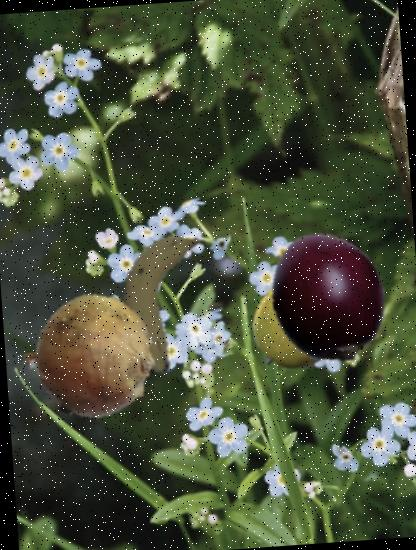Banana: (82, 224, 236, 378)
Maracuja: (242, 256, 366, 381)
Onion: (25, 287, 162, 424)
Tamarillo: (256, 226, 400, 369)
